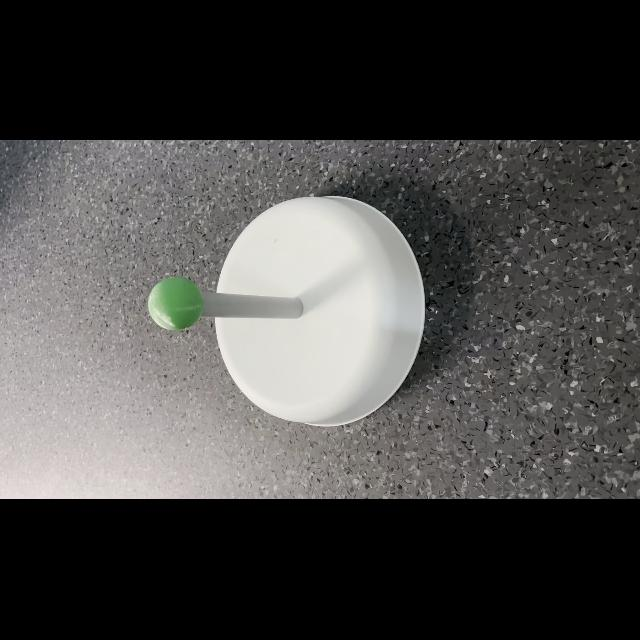objects: (143, 272, 207, 334)
